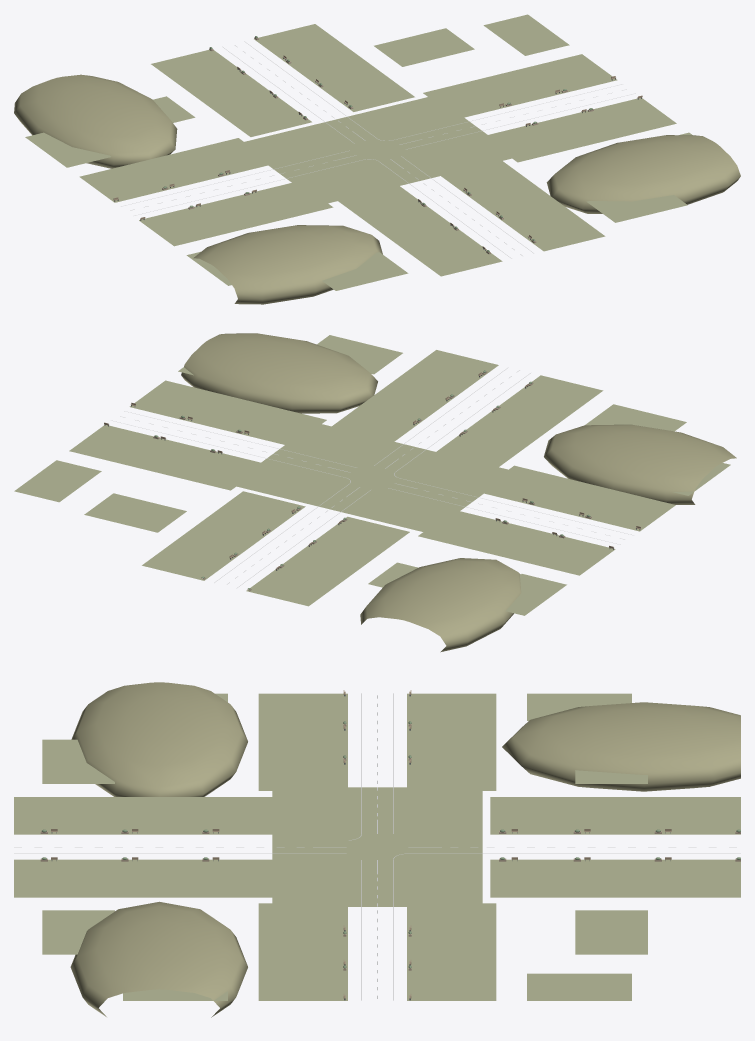
3 views of the same model, one above another, from view 1: azimuth 30°, elevation 25°; view 2: azimuth 150°, elevation 25°; view 3: azimuth 270°, elevation 25° (orthographic). The views are drawn at different scales.
Parts seen in each view (by area): view 1: static; view 2: static; view 3: static.
Part boxes in pixels (<box>): static: <box>14,14,740,304</box>; static: <box>14,333,736,652</box>; static: <box>14,682,740,1017</box>.
Size of what is drawn, in the model's own units: 180 by 14.08 by 180.
